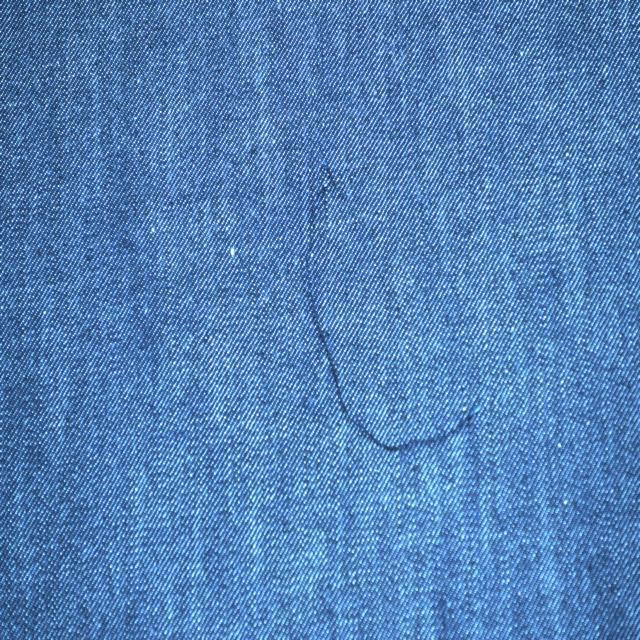defect: (302, 170, 490, 462)
